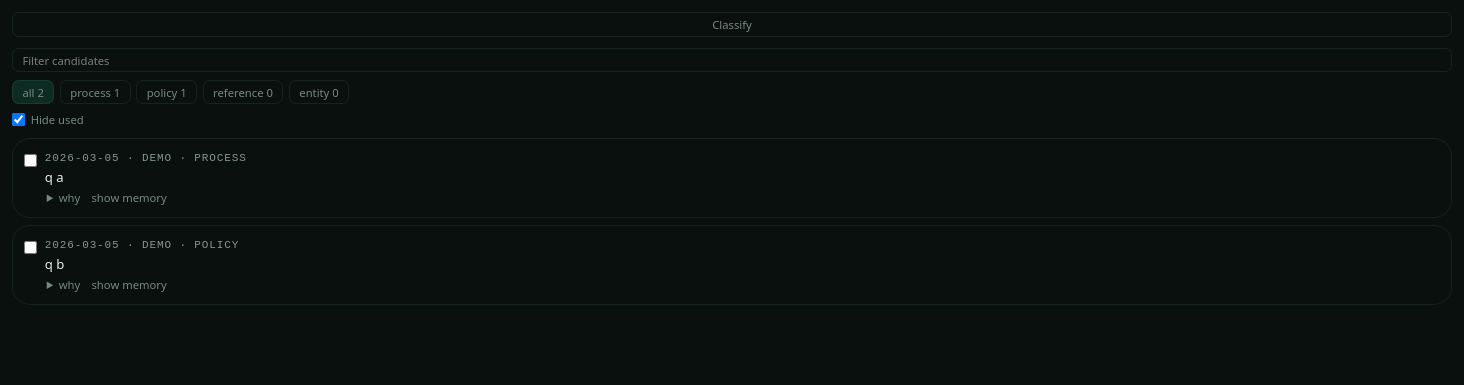
Test case: WikiCandidates › mixed page types disable drafting with a message
The image size is (1464, 385).
Click the checkbox named "Select a" at (31, 160), box x1=24 y1=154 x2=37 y2=167
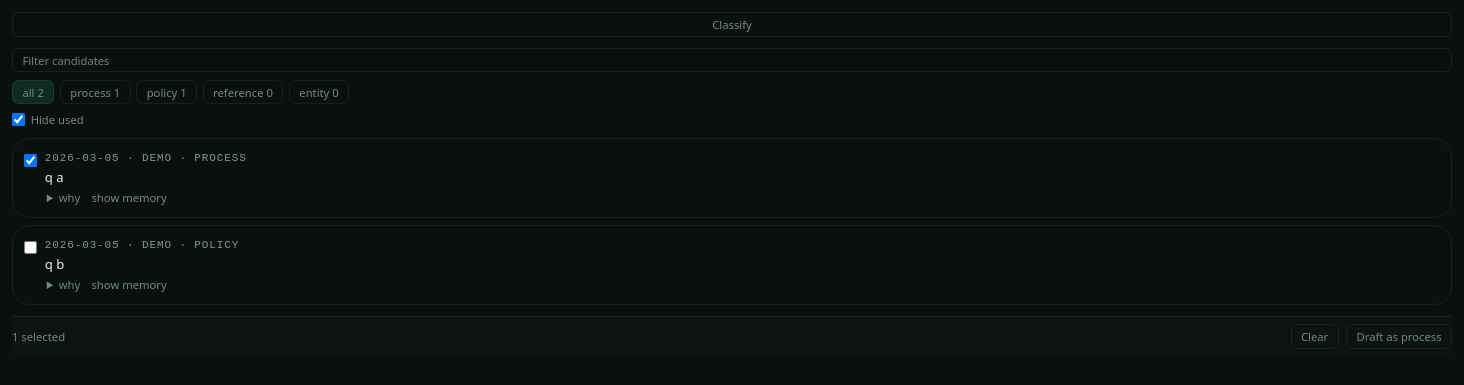
Click the checkbox named "Select b" at (31, 248), box x1=24 y1=241 x2=37 y2=254
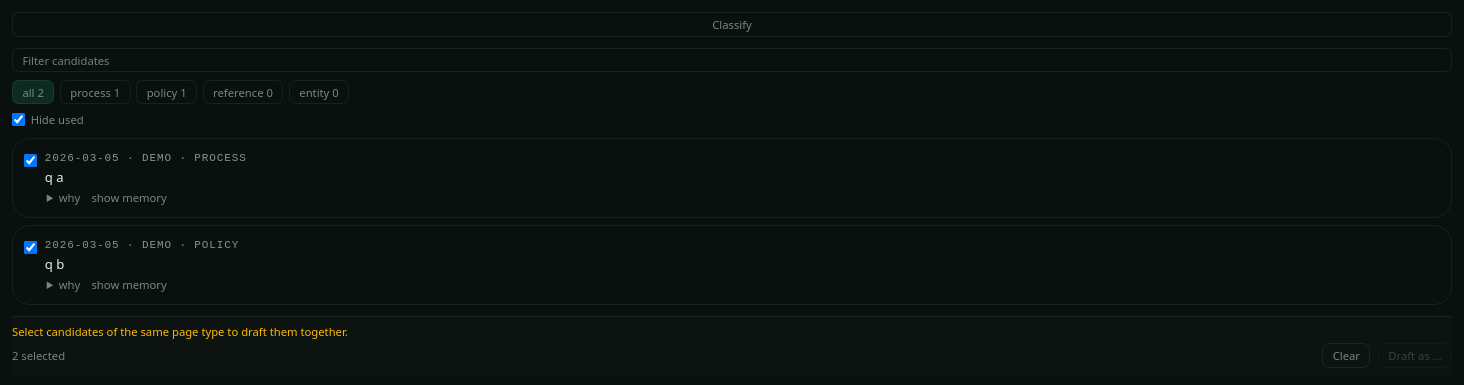
Expected: the button "Draft as …" is disabled, x1=1378 y1=343 x2=1452 y2=368
Expected: the text "same page type" is shown, x1=12 y1=324 x2=348 y2=339
